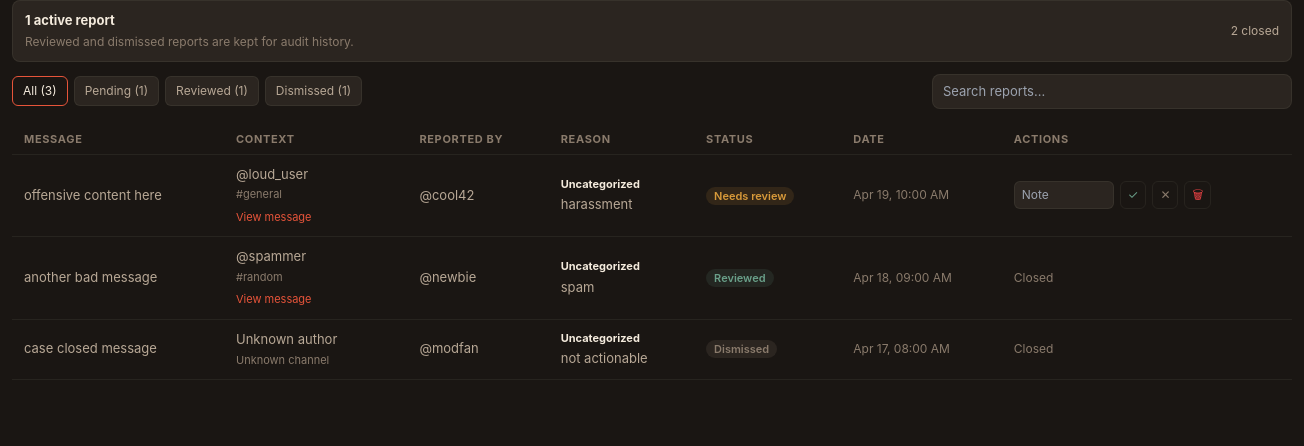
Test case: ReportsTable — actions › shows success feedback after dismissing a report
The image size is (1304, 446).
Click the button titled "dismiss" at {"x": 1165, "y": 195}, box [1152,181,1178,209]
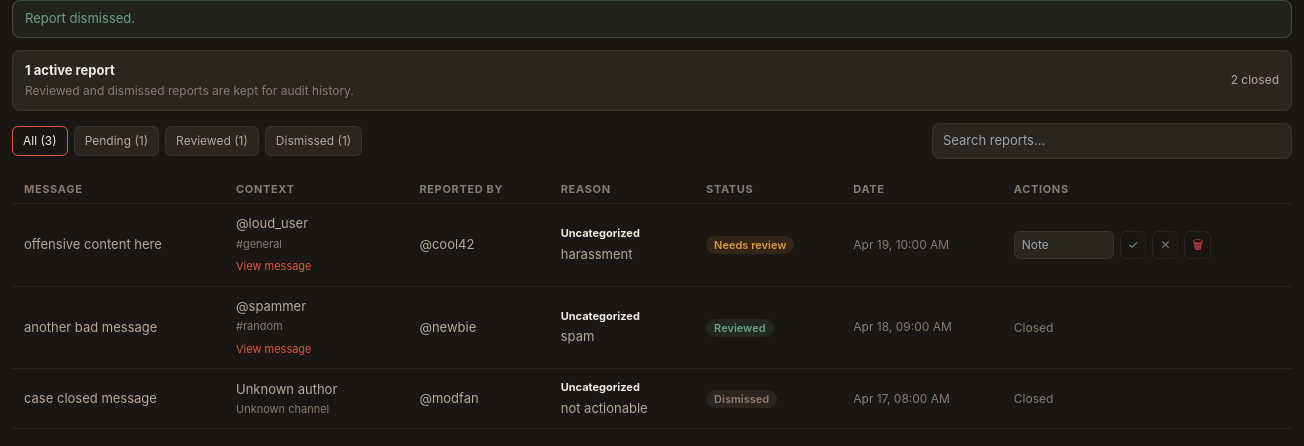
Expected: the text "Report dismissed." is shown, [12,0,1292,38]
